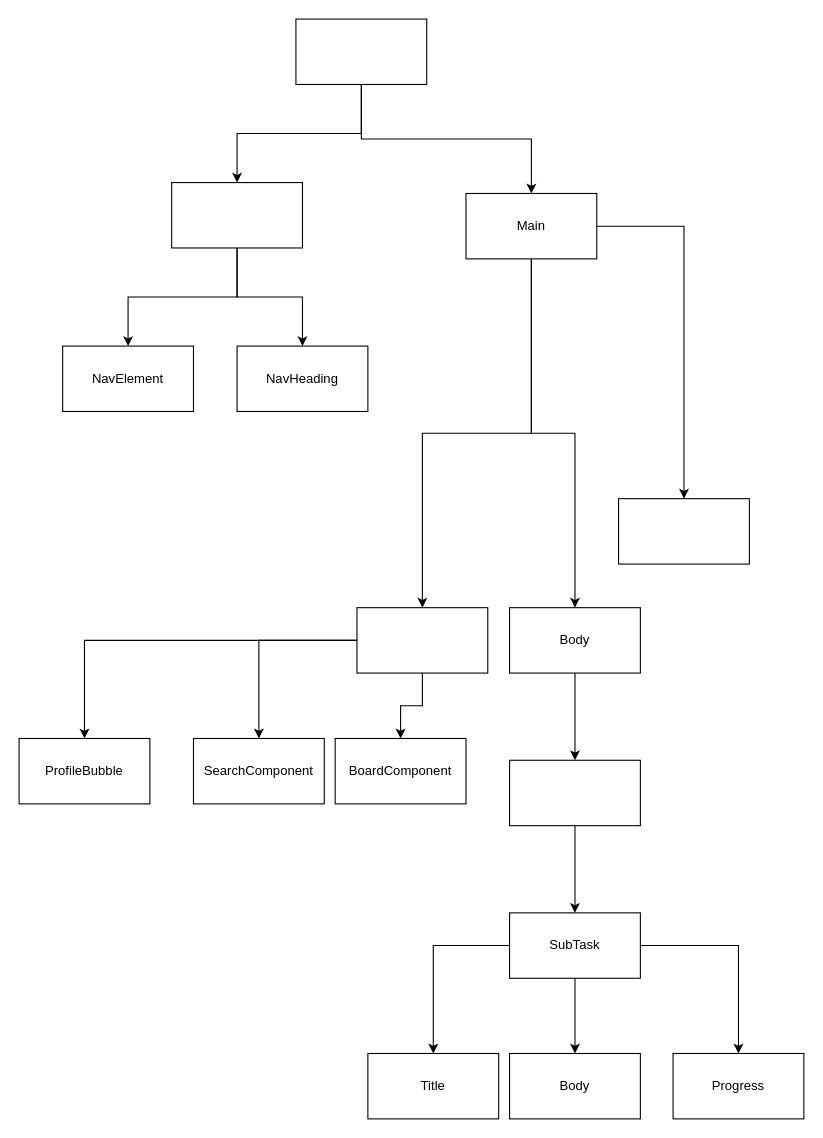
This 823x1138 diagram has some shape labels left out. The centre of each missing label's shape, as x and y in pixels:
Footer: the point at 683,531
HeaderNav: the point at 422,640
MainTask: the point at 574,792
Sidebar: the point at 236,214
weihu: the point at 361,51
